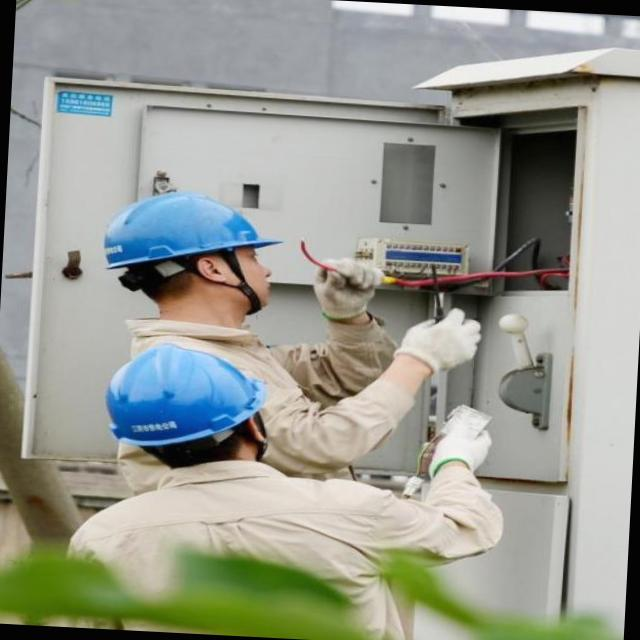gloves: (438, 394, 540, 528), (404, 284, 484, 394), (302, 240, 384, 346)
helmet: (93, 334, 280, 460), (92, 178, 297, 286)
